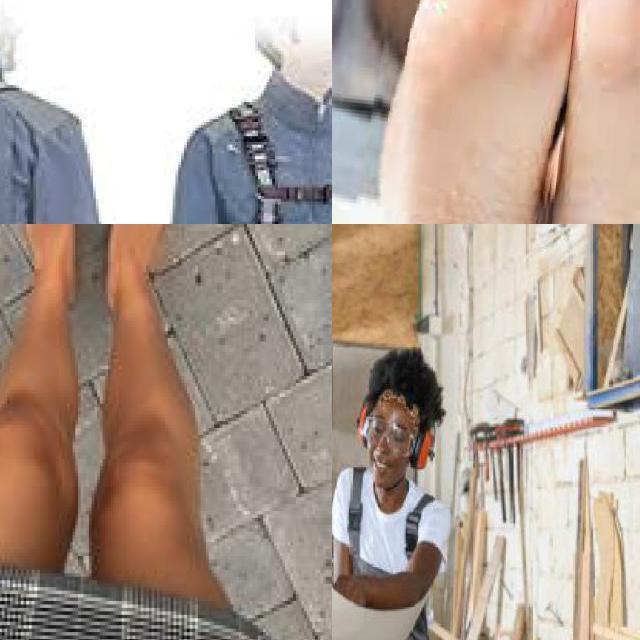Barefoots: (374, 0, 582, 224), (536, 0, 640, 224), (105, 224, 172, 311)
Ear-protection: (350, 395, 440, 478)
Harness: (197, 89, 332, 224)
glasses: (362, 409, 418, 463)
head_nohelmet: (354, 338, 450, 505)
person: (332, 332, 469, 640)
